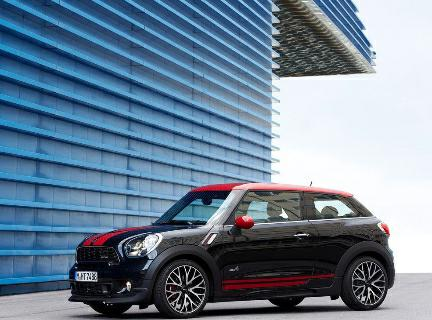MINI-JCWPACEMAN: (69, 165, 410, 316)
